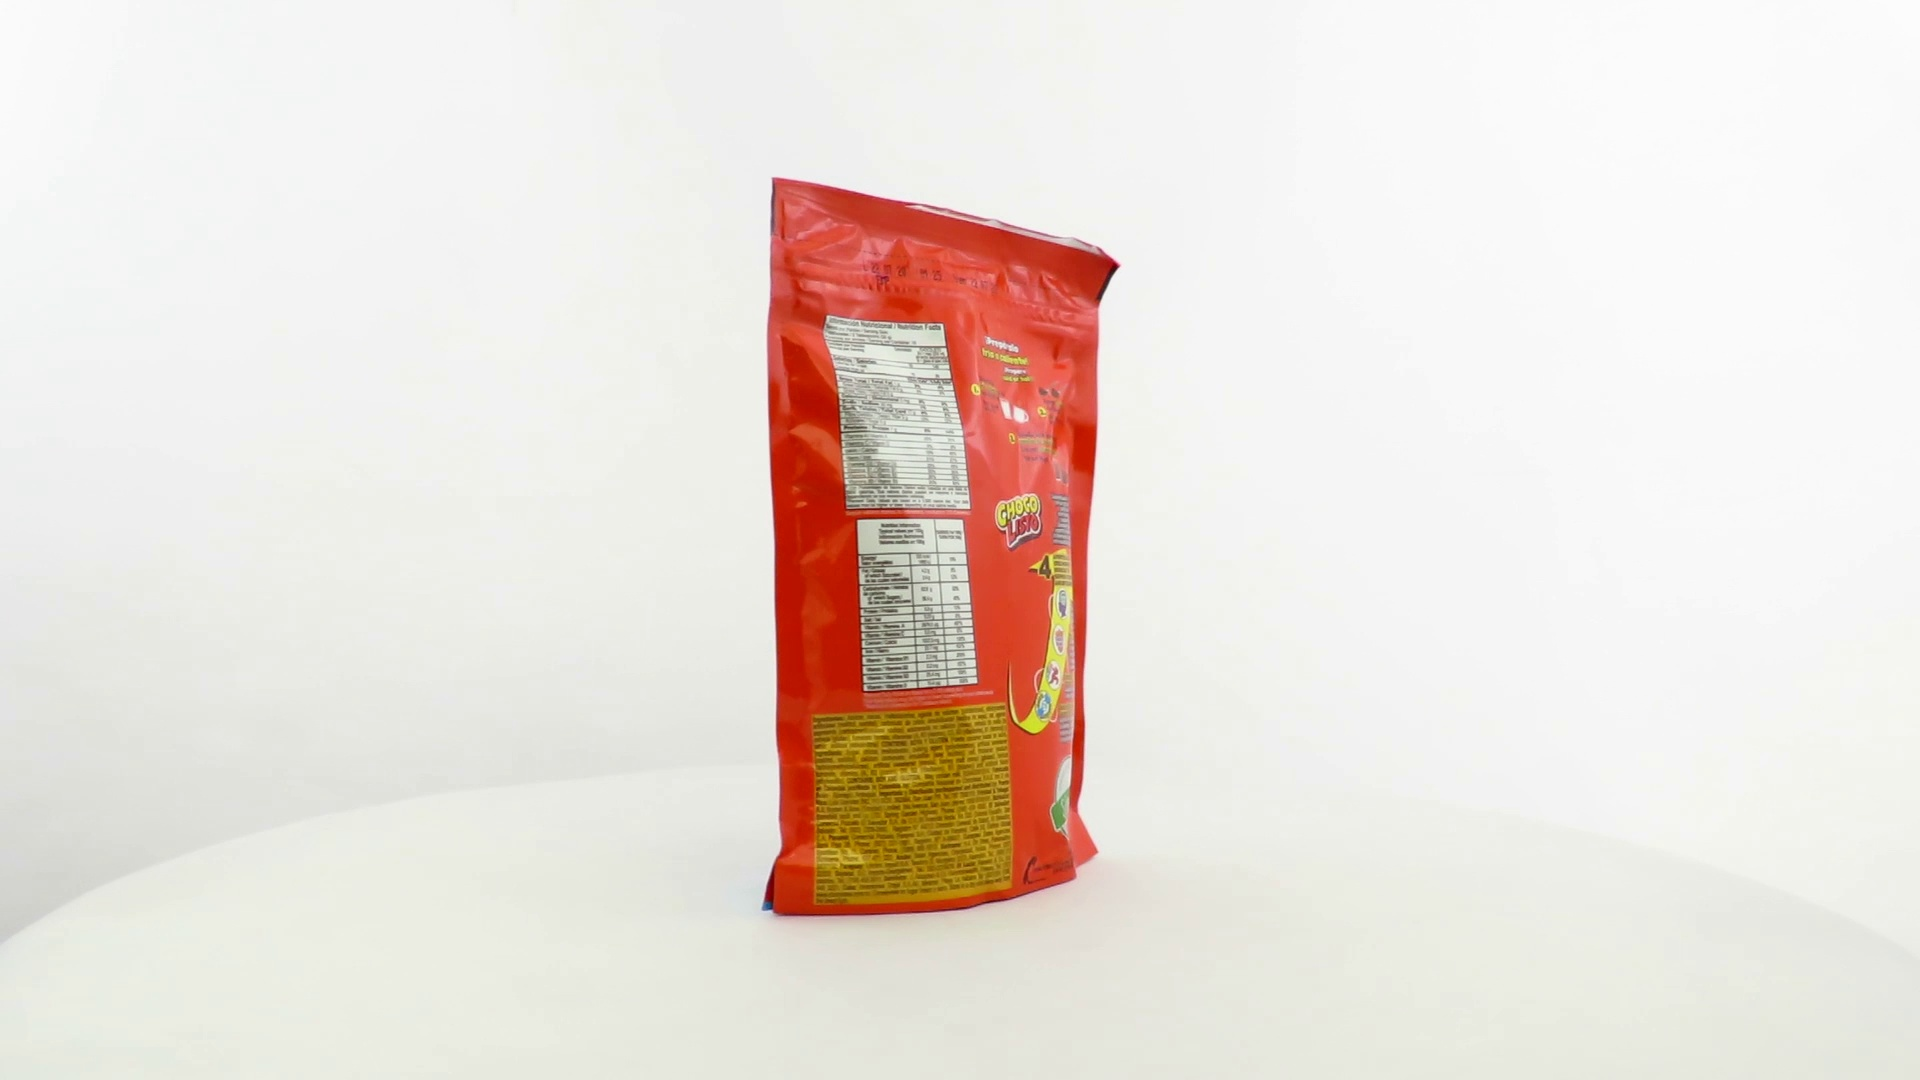COL0170104DYP20000: (756, 171, 1126, 923)
